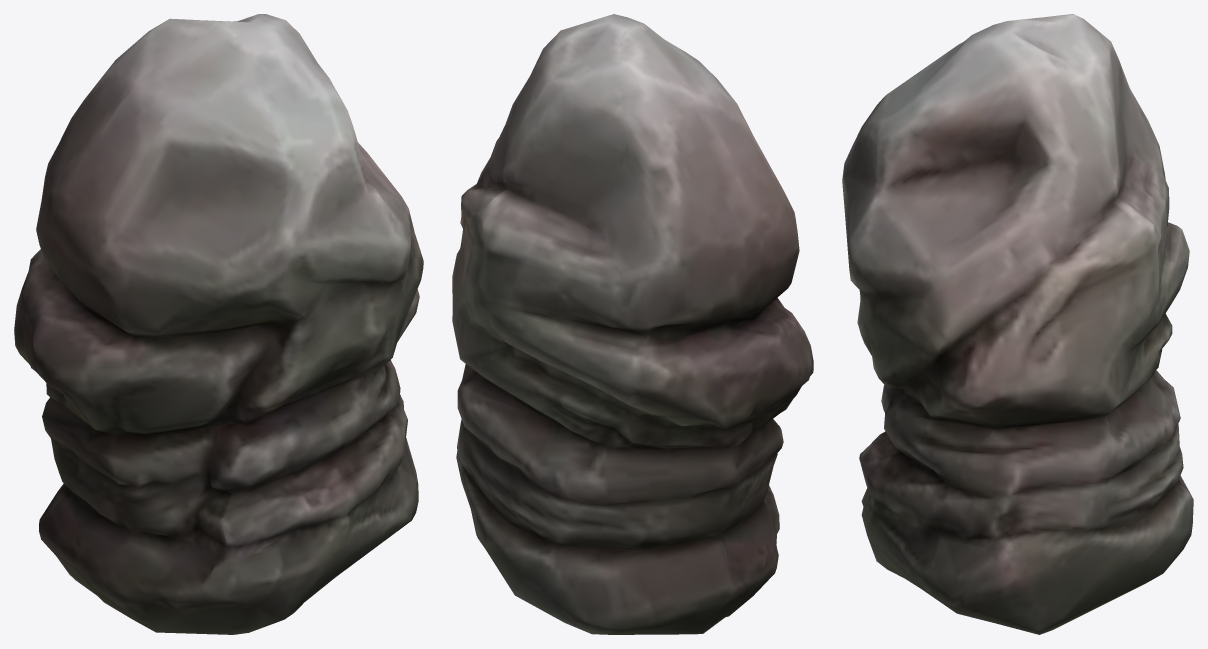
Rendered from stylized-rock-06.glb.
3 renders of one model, left to right at view 1: azimuth 30°, elevation 25°; view 2: azimuth 150°, elevation 25°; view 3: azimuth 270°, elevation 25°, orthographic.
Parts seen in each view (by area): view 1: Big_4; view 2: Big_4; view 3: Big_4.
Part boxes in pixels (<box>): Big_4: <box>14,14,423,634</box>; Big_4: <box>452,14,813,634</box>; Big_4: <box>842,14,1193,634</box>.
Size of the model in its own units: 2.65 by 4.1 by 2.25.
Materials: 1 (1 with a texture image).
